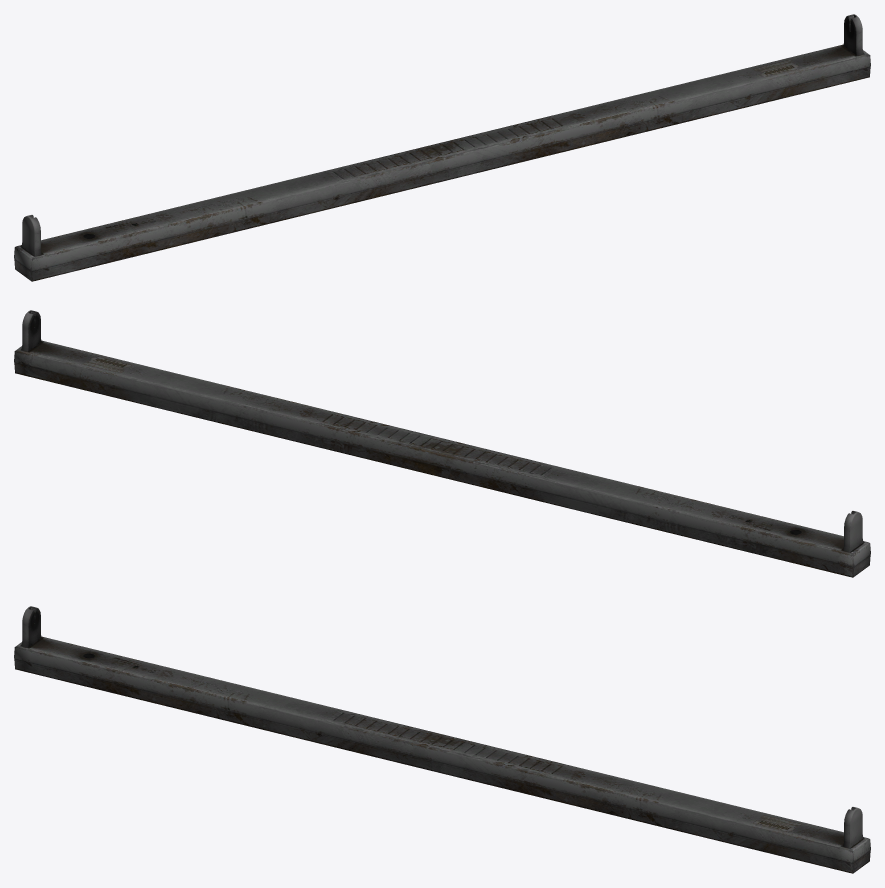
Rendered from fluorescentBase40W_b.FBX.
3 views of the same model, one above another, from view 1: azimuth 30°, elevation 25°; view 2: azimuth 150°, elevation 25°; view 3: azimuth 330°, elevation 25° (orthographic).
Parts seen in each view (by area): view 1: SM_Fluorescent_Base_40W; view 2: SM_Fluorescent_Base_40W; view 3: SM_Fluorescent_Base_40W.
Boxes of the visible parts, box(x1,y1,x2,y2) form: SM_Fluorescent_Base_40W: box(14, 14, 870, 281); SM_Fluorescent_Base_40W: box(14, 310, 870, 577); SM_Fluorescent_Base_40W: box(14, 606, 870, 873).
Bounding box in the file's own units: 123 × 8.05 × 4.49.
Materials: 1 (1 with a texture image).
